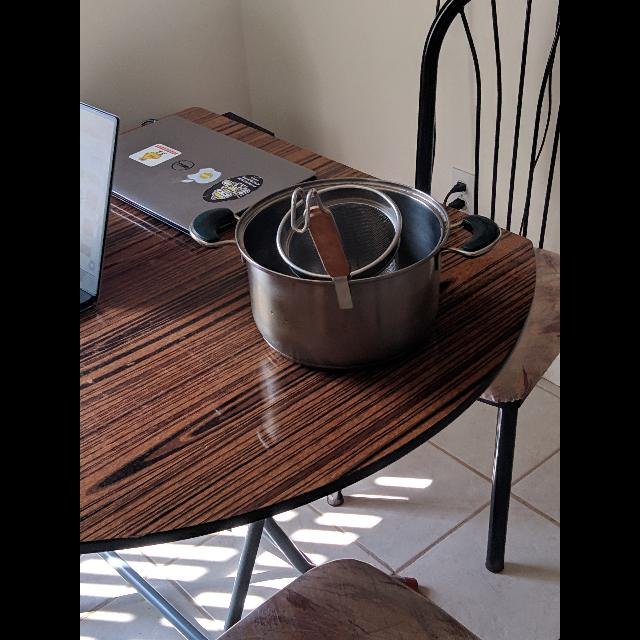Handle: (285, 181, 365, 302)
Strainer: (279, 184, 403, 278)
